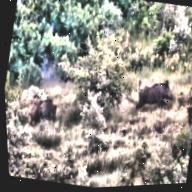boar: (20, 84, 64, 138)
